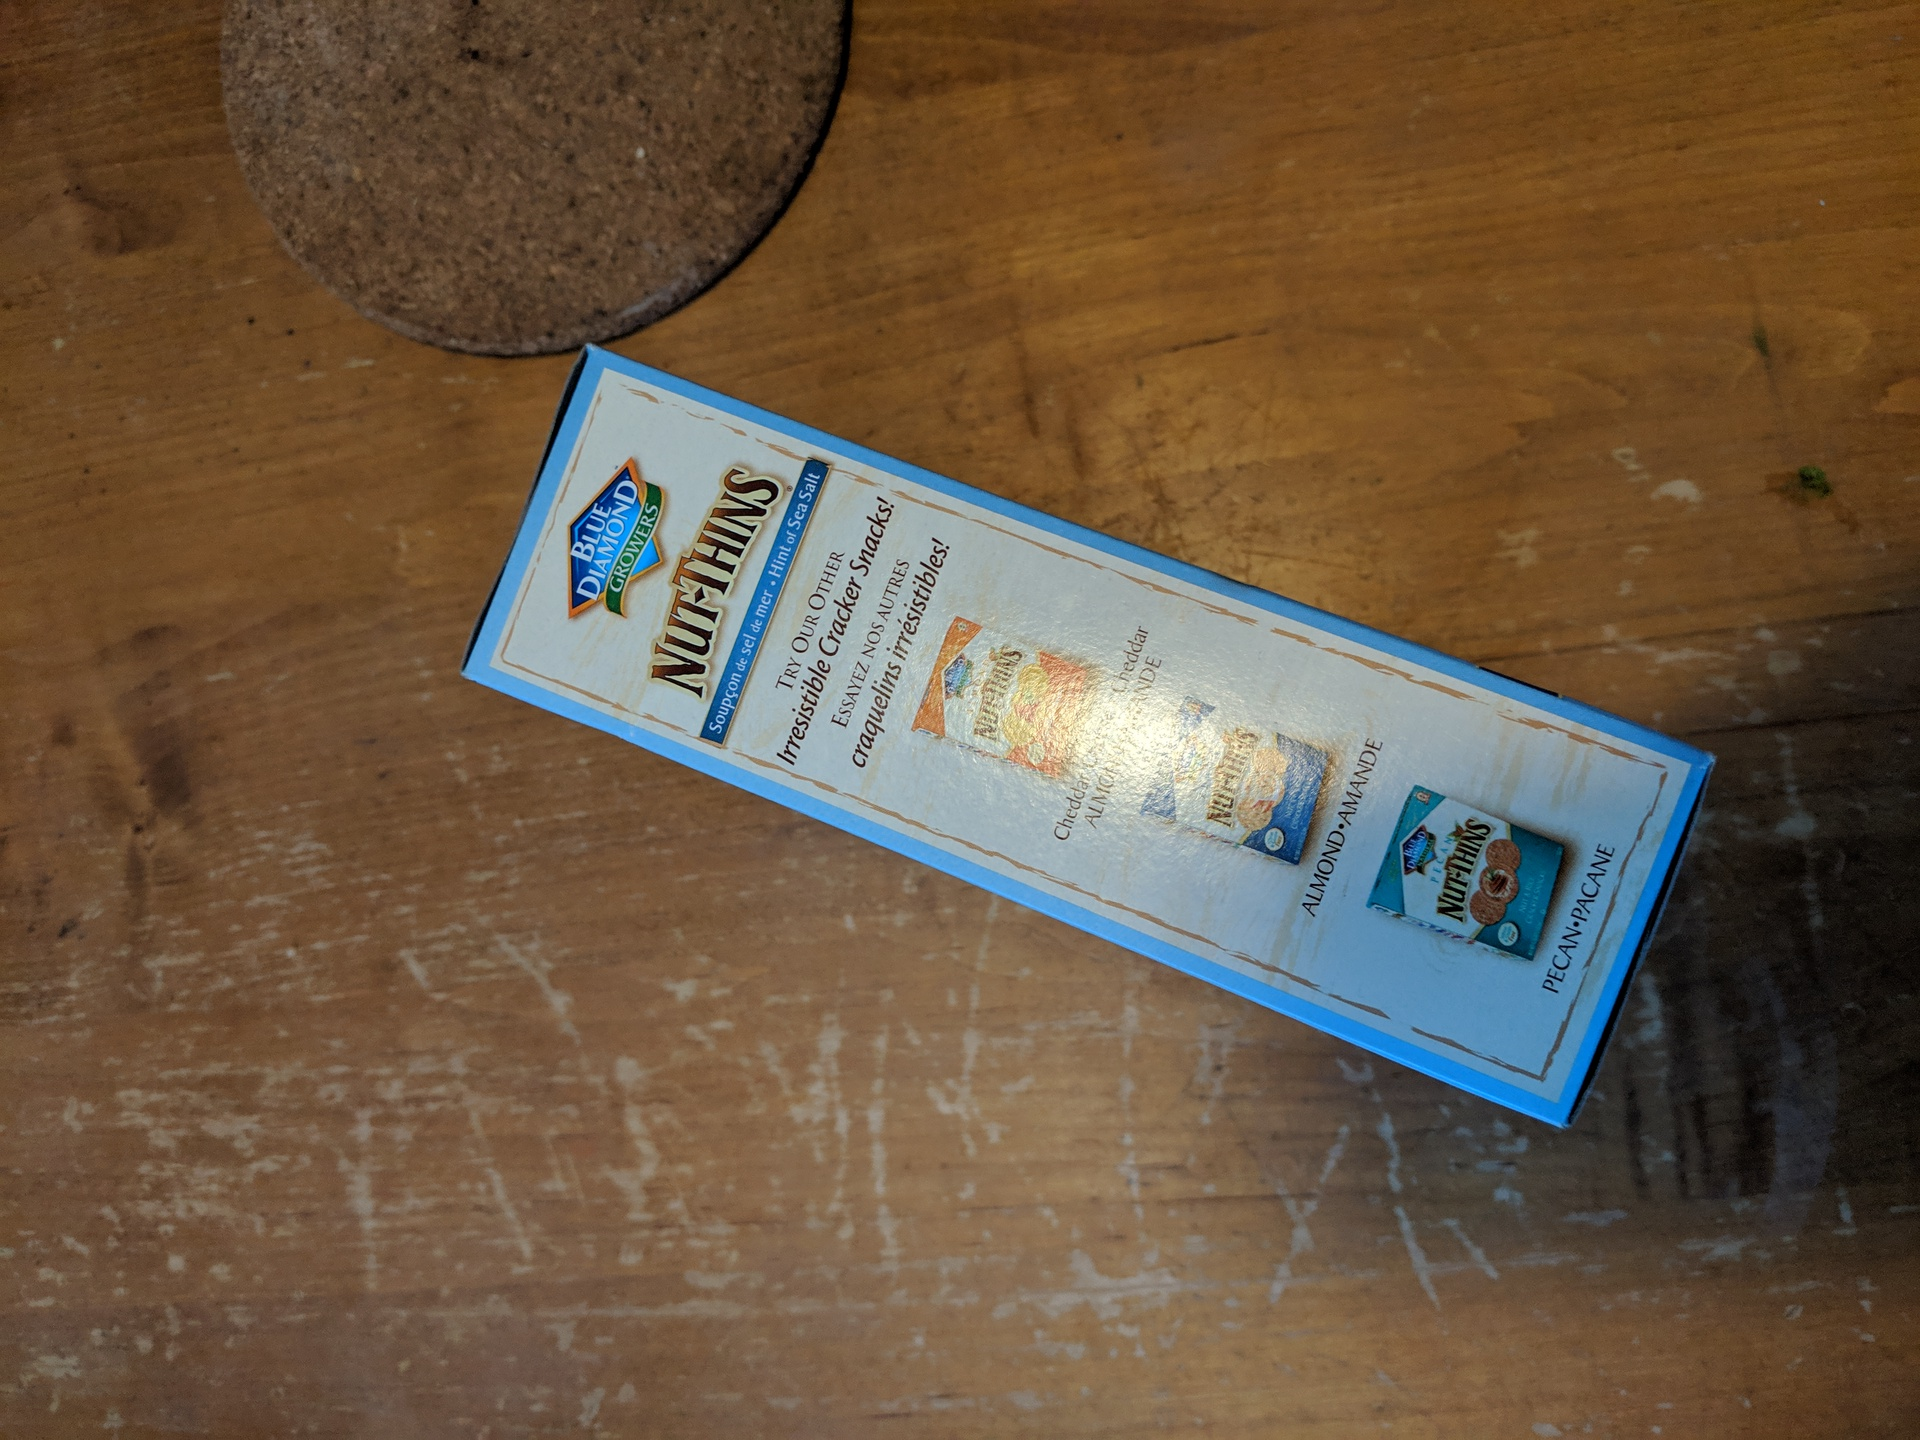blue_diamond_nut_thins_almond_seasalt: (541, 421, 1649, 988)
